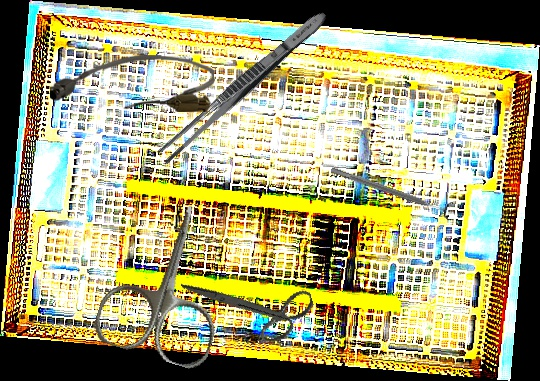Cannula: (49, 53, 215, 113)
Dressing Forceps: (155, 6, 332, 167)
Fixation Ring: (328, 160, 454, 220)
Iris Scissors: (89, 189, 249, 373), (180, 246, 322, 365)
